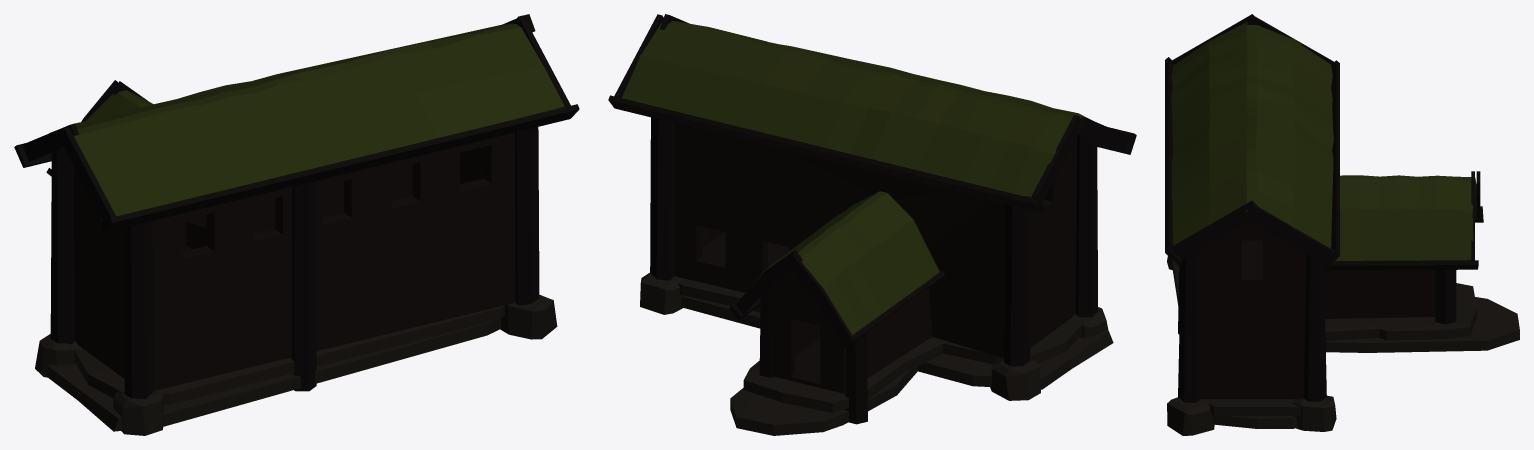
Rendered from Village_SodHouse_7.fbx.
3 renders of one model, left to right at view 1: azimuth 30°, elevation 25°; view 2: azimuth 150°, elevation 25°; view 3: azimuth 270°, elevation 25°, orthographic. The views are drawn at different scales.
Parts seen in each view (by area): view 1: Village_SodHouse_7; view 2: Village_SodHouse_7; view 3: Village_SodHouse_7.
Part boxes in pixels (left/top/right/bottom): Village_SodHouse_7: left=14, top=14, right=579, bottom=435; Village_SodHouse_7: left=608, top=14, right=1136, bottom=435; Village_SodHouse_7: left=1165, top=14, right=1519, bottom=435.
Size of the model in its own units: 1722 by 973 by 1317.
